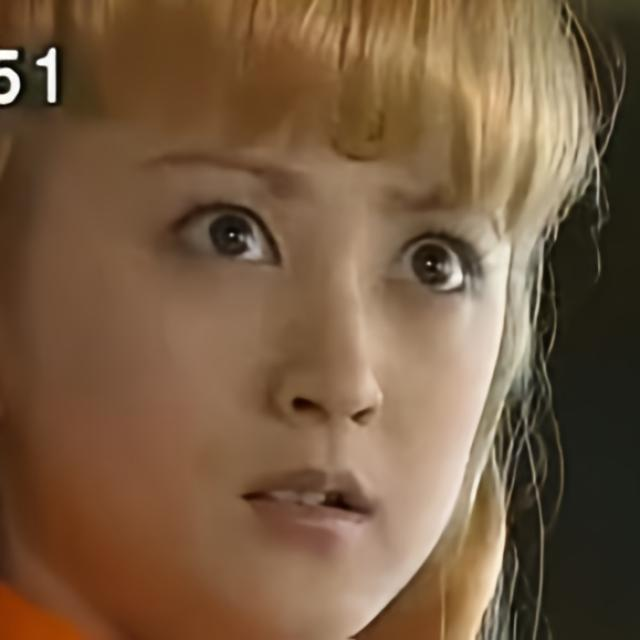Fear: (10, 54, 515, 640)
